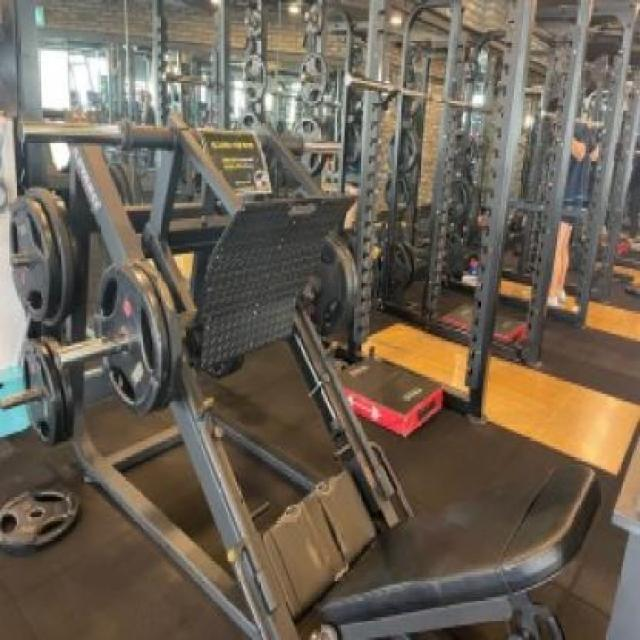leg press: (0, 100, 609, 638)
